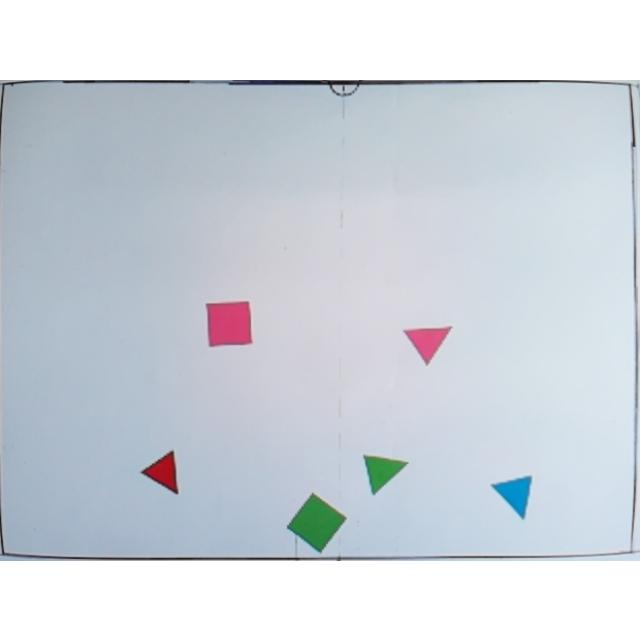blueTriangle: (492, 472, 540, 520)
greenSquare: (287, 491, 347, 552)
greenTriangle: (362, 454, 408, 494)
pinkSquare: (204, 299, 254, 347)
pinkTriangle: (402, 324, 451, 366)
redTriangle: (141, 448, 181, 494)
